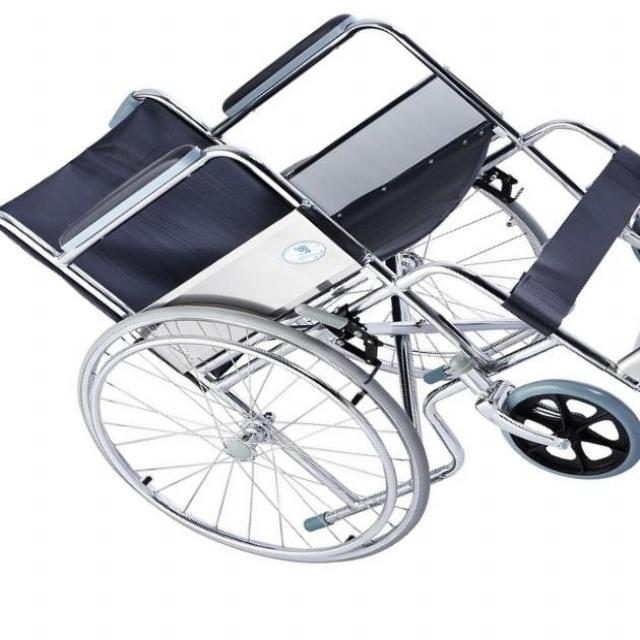wheelchair: (0, 6, 640, 572)
